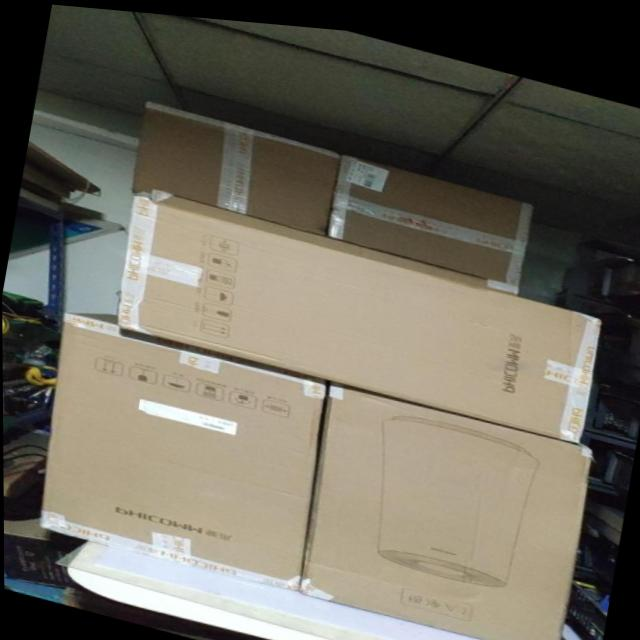box: (116, 191, 601, 432), (40, 311, 329, 586), (298, 376, 588, 640), (136, 186, 518, 286), (130, 98, 336, 228), (327, 146, 532, 276)
